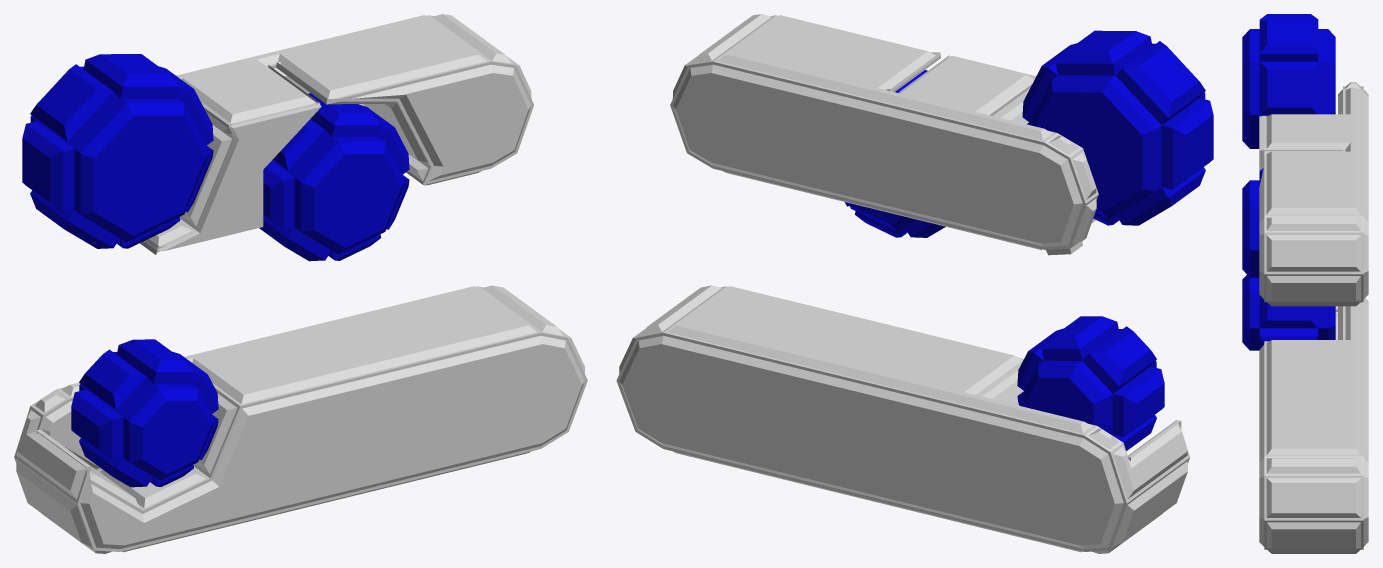
The model's file is Ch_China_二_01.fbx.
The picture shows the model from 3 angles, left to right: view 1: azimuth 30°, elevation 25°; view 2: azimuth 150°, elevation 25°; view 3: azimuth 270°, elevation 25°; orthographic projection. The views are drawn at different scales.
Visible parts, largest first — view 1: sphere1; view 2: sphere1; view 3: sphere1.
Part boxes in pixels (bbox=[...]): sphere1: bbox=[14, 14, 587, 553]; sphere1: bbox=[616, 14, 1213, 553]; sphere1: bbox=[1242, 14, 1368, 553].
Bounding box in the file's own units: 0.9784 × 0.8337 × 0.2541.
